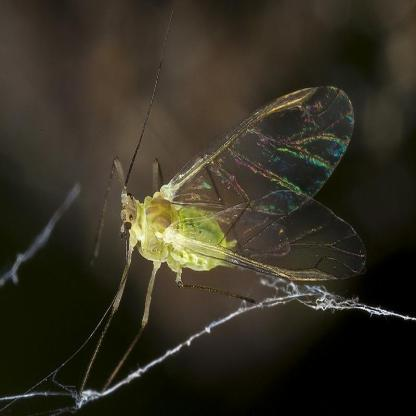aphid: (85, 87, 364, 329)
